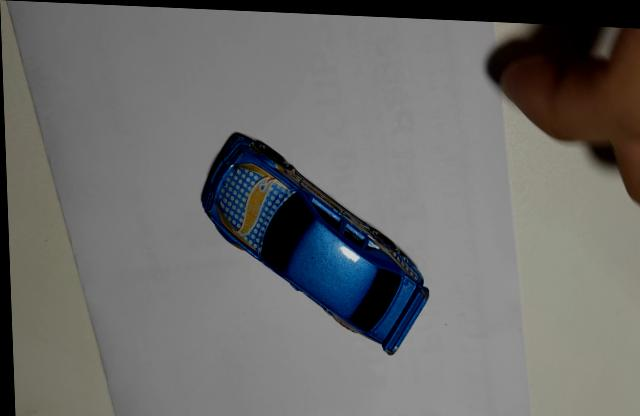04_MERZEDES: (198, 128, 429, 351)
